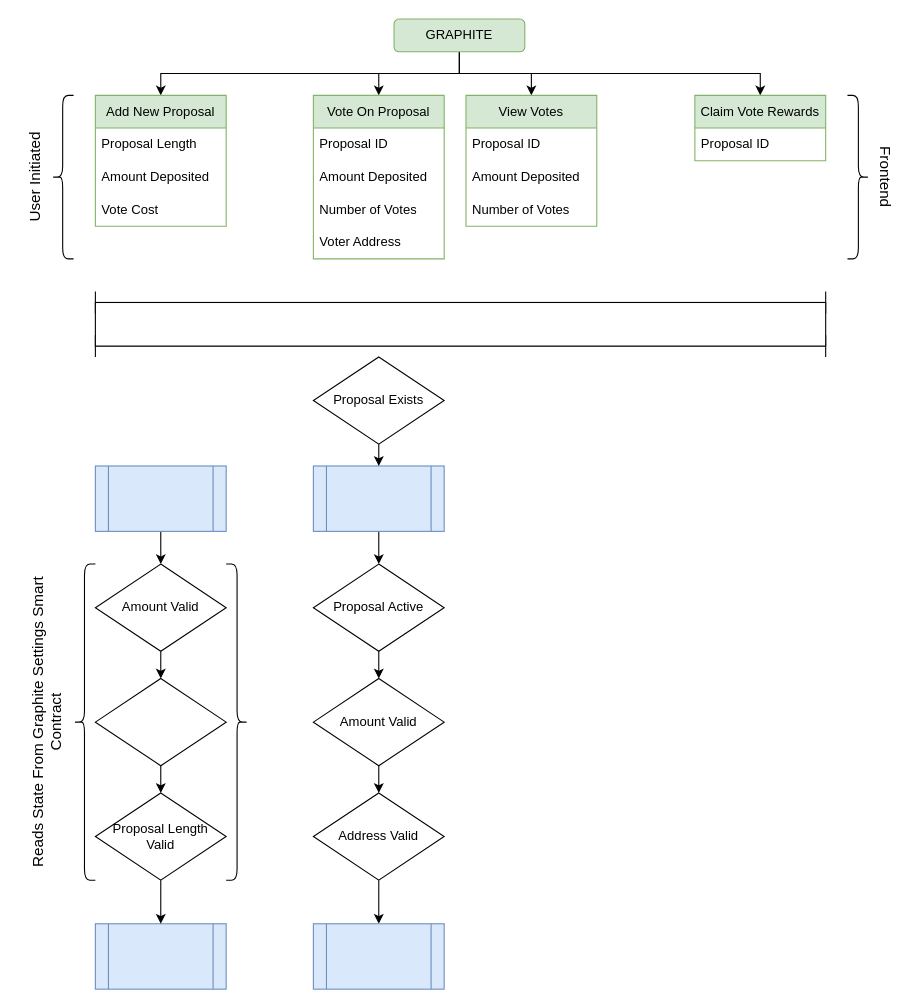
Image size: 920x1008. Some labels were removed from this diagram. The centre of each missing label's shape, as x and y in pixels:
API: point (460, 323)
Check Proposal Is Valid: point (160, 498)
Check Vote Is Valid: point (378, 498)
Create Proposal: point (160, 956)
Record Vote: point (378, 956)
Vote Cost Valid: point (160, 721)
